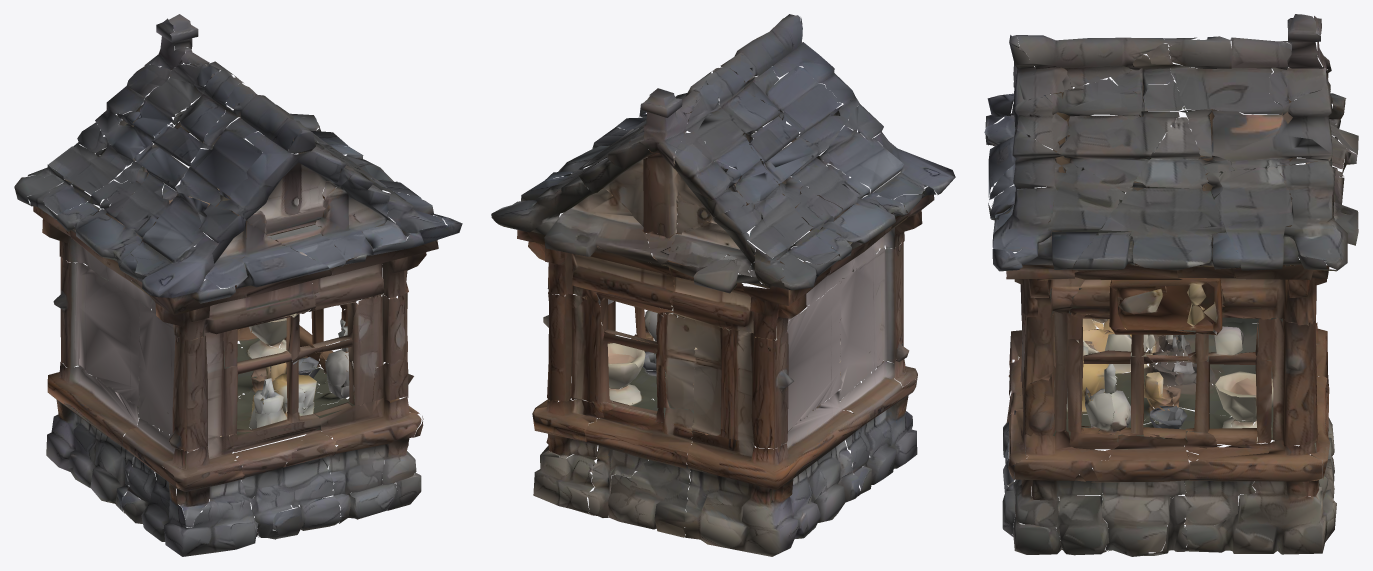
Rendered from apothecary.glb.
3 renders of one model, left to right at view 1: azimuth 30°, elevation 25°; view 2: azimuth 150°, elevation 25°; view 3: azimuth 270°, elevation 25°, orthographic. The views are drawn at different scales.
Parts seen in each view (by area): view 1: tripo_node_c7408cec-29c1-4e27-9e38-7645225a9e77; view 2: tripo_node_c7408cec-29c1-4e27-9e38-7645225a9e77; view 3: tripo_node_c7408cec-29c1-4e27-9e38-7645225a9e77.
Boxes of the visible parts, x1,y1,x2,y2 form: tripo_node_c7408cec-29c1-4e27-9e38-7645225a9e77: (14,14,462,556); tripo_node_c7408cec-29c1-4e27-9e38-7645225a9e77: (491,14,955,556); tripo_node_c7408cec-29c1-4e27-9e38-7645225a9e77: (984,14,1358,556).
Bounding box in the file's own units: 4.61 × 6.06 × 4.29.
Materials: 1 (1 with a texture image).
